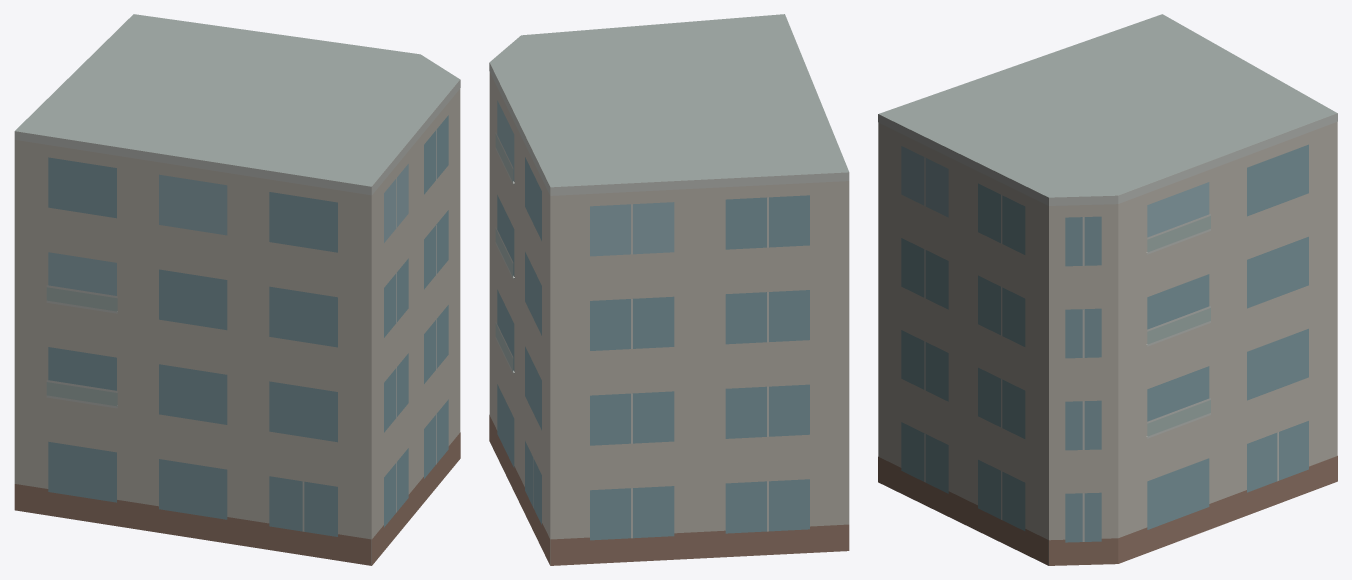
File: survey-upis-32525110.glb
The picture shows the model from 3 angles, left to right: view 1: azimuth 30°, elevation 25°; view 2: azimuth 150°, elevation 25°; view 3: azimuth 270°, elevation 25°; orthographic projection. The views are drawn at different scales.
Parts seen in each view (by area): view 1: survey-upis-32525110.tmp; view 2: survey-upis-32525110.tmp; view 3: survey-upis-32525110.tmp.
Part boxes in pixels (x1,y1,x2,y2): survey-upis-32525110.tmp: (14, 14, 460, 565); survey-upis-32525110.tmp: (489, 14, 849, 565); survey-upis-32525110.tmp: (878, 14, 1337, 565).
Size of the model in its own units: 11.45 by 10.7 by 12.11.
